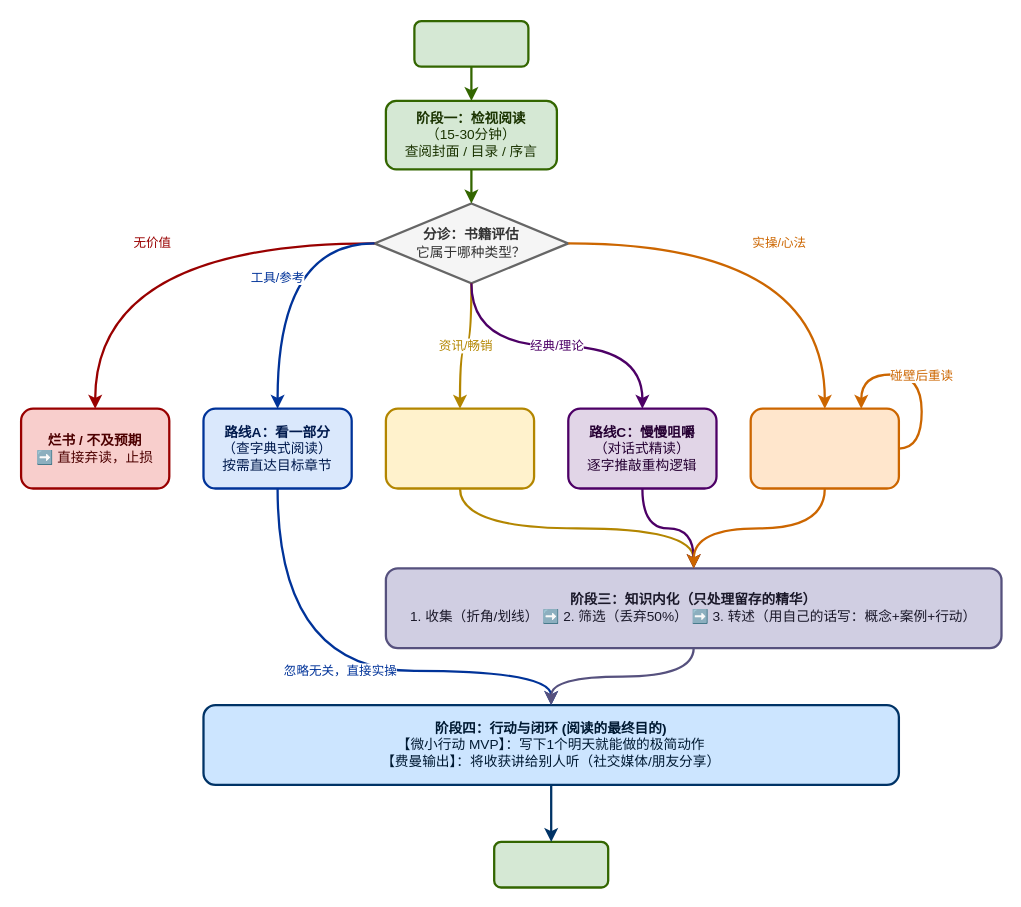
Some shapes in this 1021 by 907 pixel diagram are drawn without their labels. Here are the shapes that lost their labels. From the top down, the centre of each, then its label:
[471,43]: 开始阅读
[459,448]: 路线B：快速理解 （淘金式阅读） 跳过废话抓取核心
[824,448]: 路线D：反复尝试 （螺旋式阅读） 读练结合知行循环
[550,864]: 知识资产沉淀
